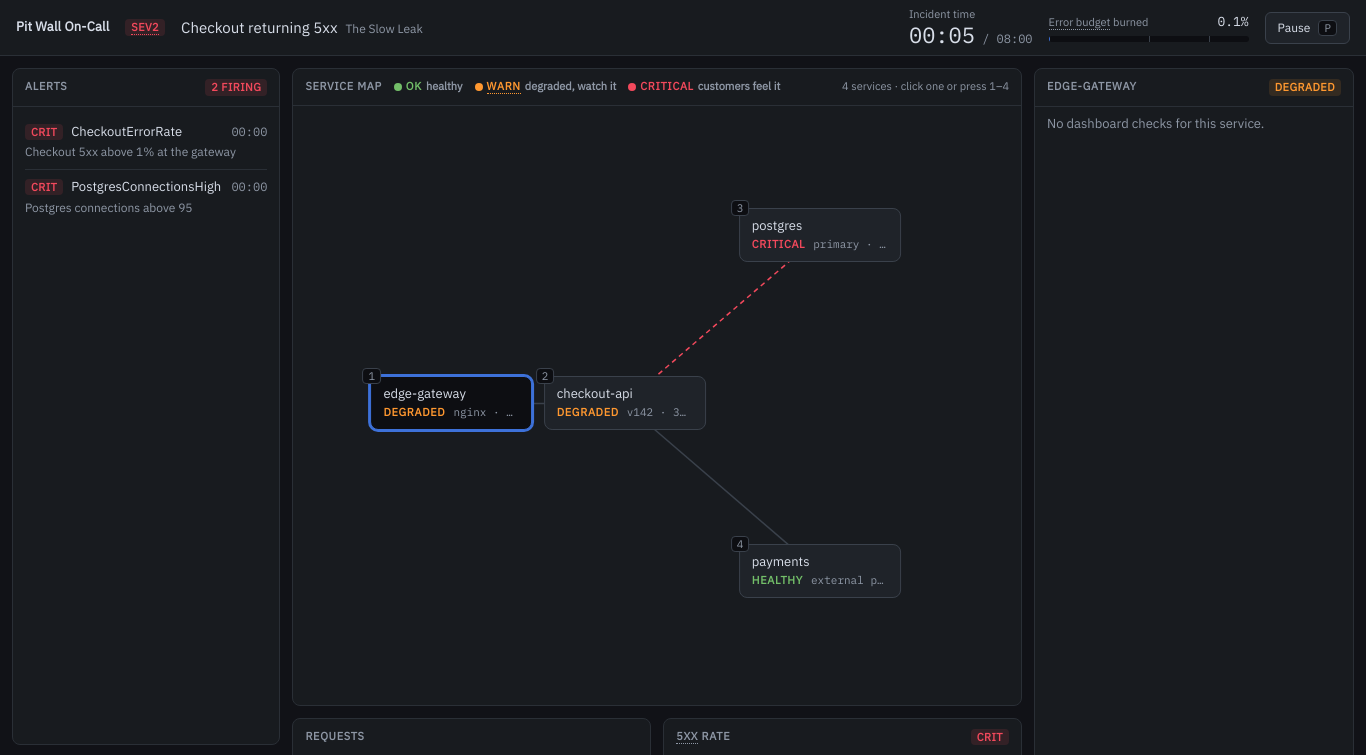
Console › never links to a tool that has nothing on offer for the service yet (M5 C3)
Click the button "postgres Critical primary · max 120 conns 3": (820, 235) x1=739 y1=208 x2=901 y2=262
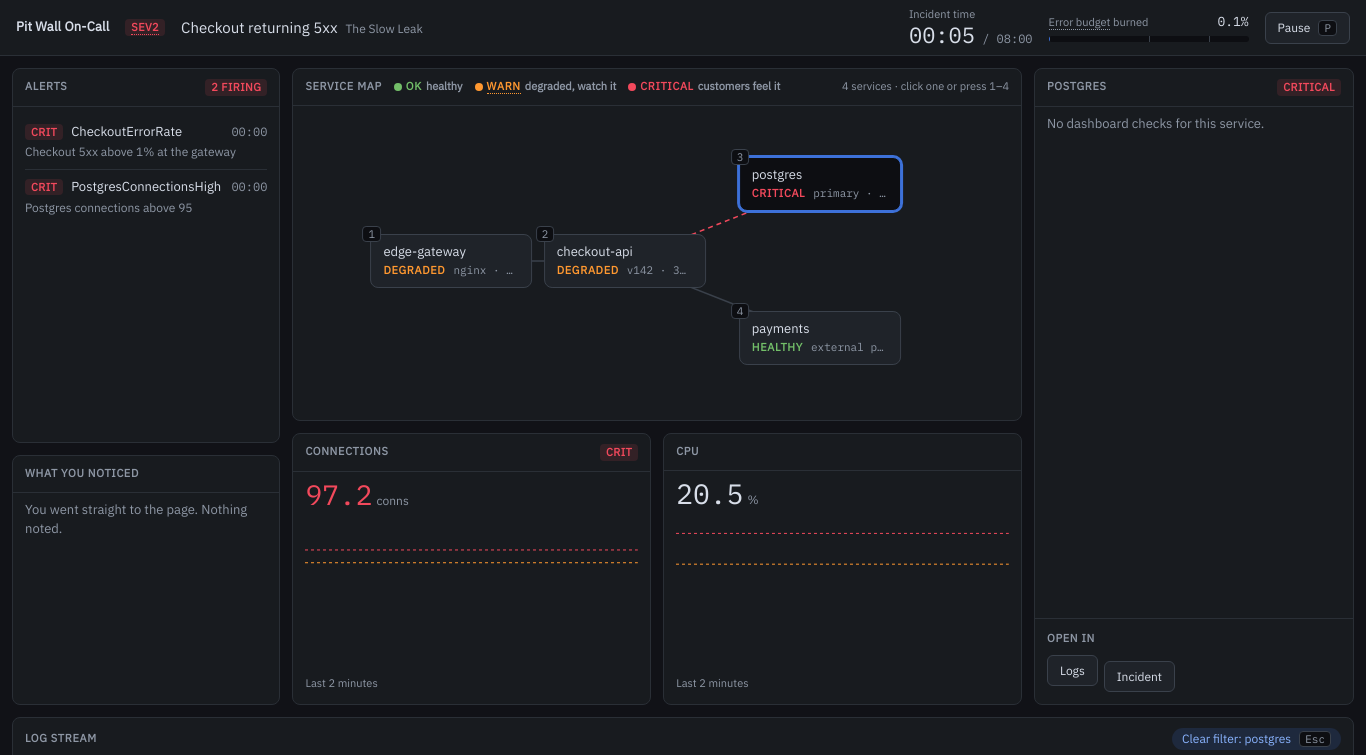
Check: the buttons read "Logs", "Incident", in this order, box x1=1047 y1=655 x2=1098 y2=686; x1=1104 y1=661 x2=1175 y2=692
